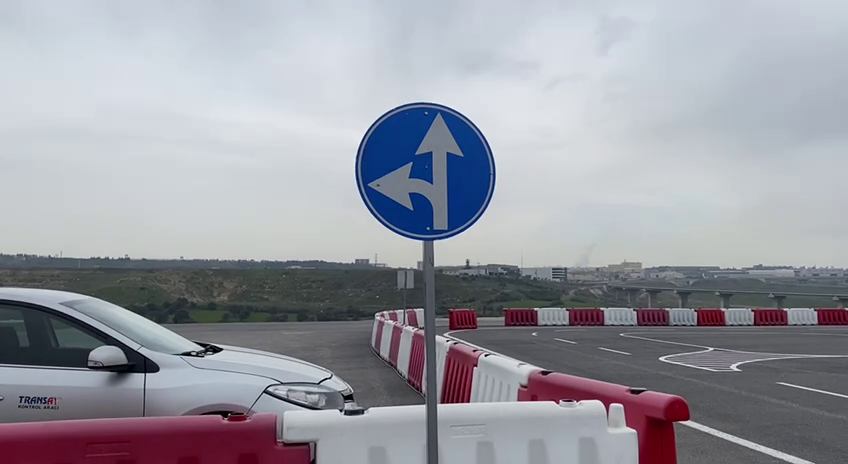forwardAndLeft: (349, 94, 506, 248)
